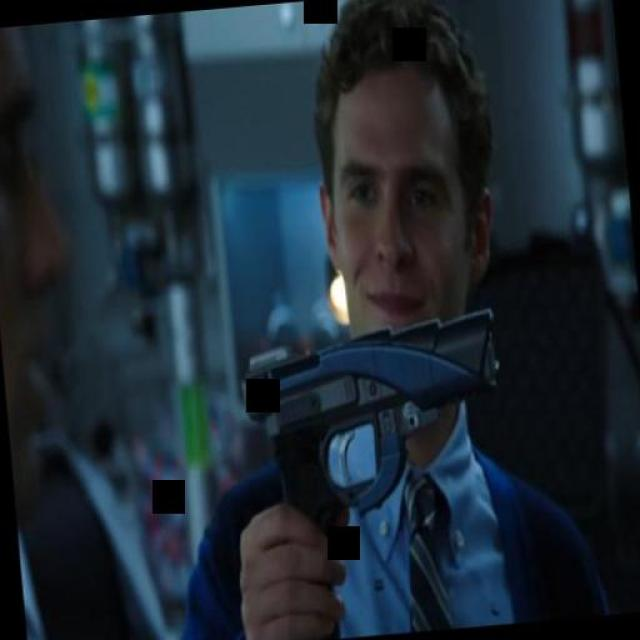gun: (175, 281, 535, 615)
